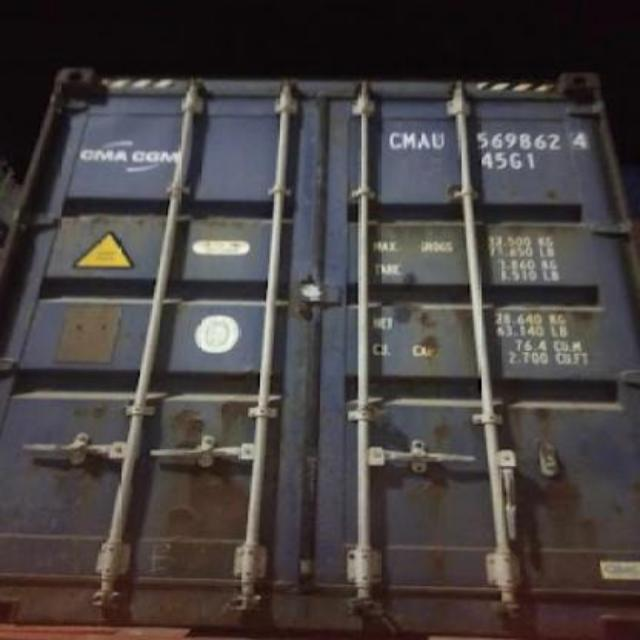2: (548, 130, 560, 150)
4: (574, 130, 586, 148)
5: (474, 130, 490, 150)
6: (532, 130, 550, 152), (492, 130, 504, 148)
8: (520, 130, 532, 148)
9: (504, 130, 516, 150)
A: (418, 128, 430, 150)
C: (388, 130, 402, 150)
M: (402, 130, 418, 150)
U: (431, 130, 444, 148)
